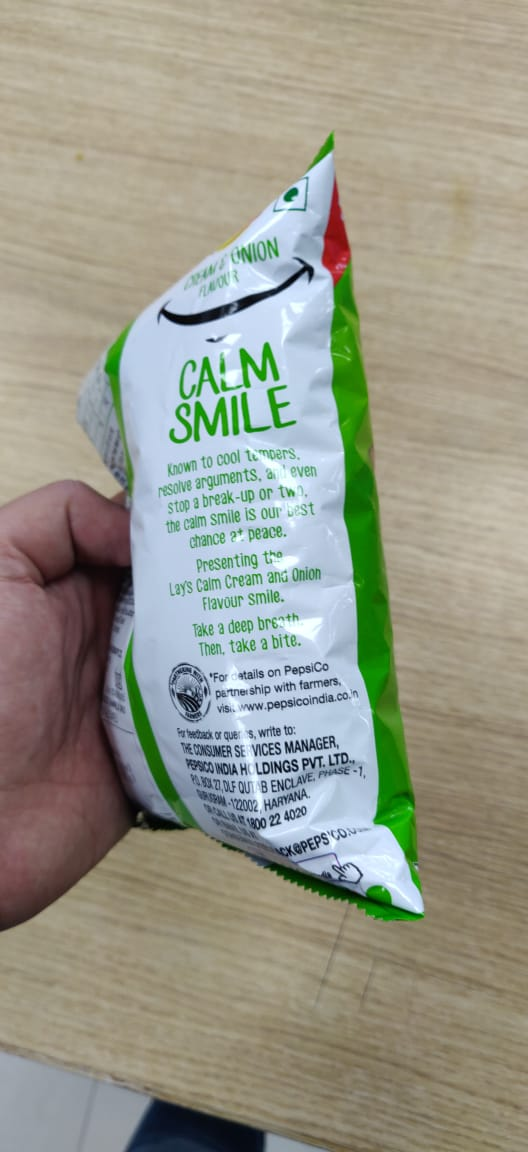lays chips: (59, 121, 441, 956)
